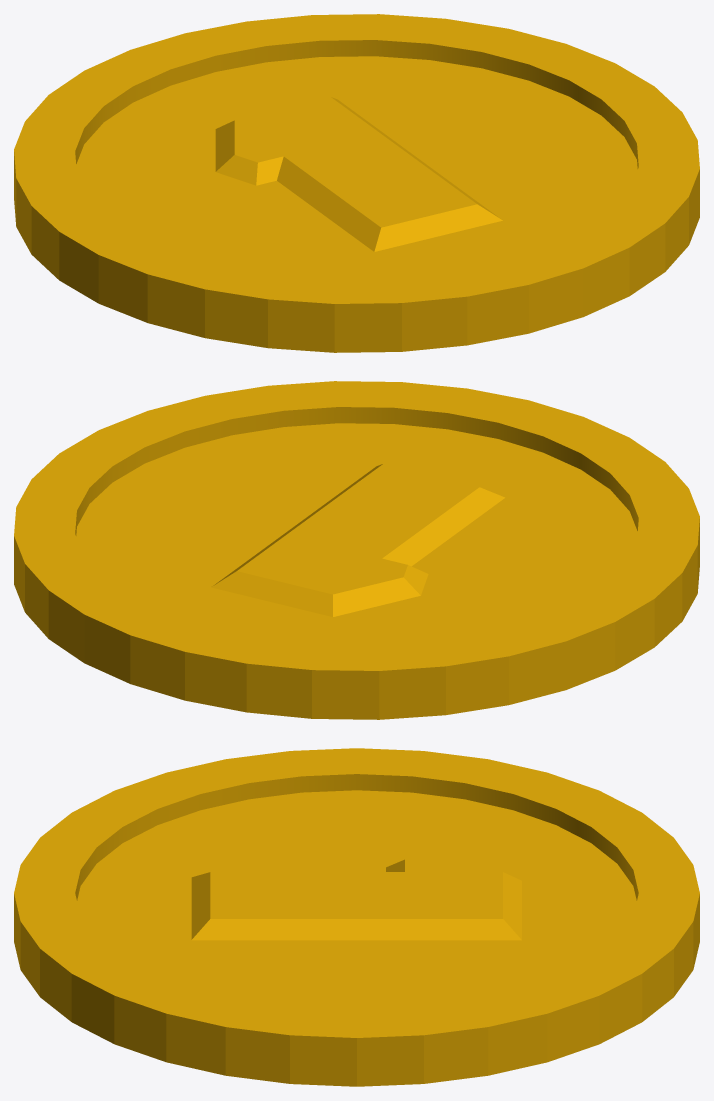
Rendered from goldCoin_export.fbx.
The picture shows the model from 3 angles, top to bottom: view 1: azimuth 30°, elevation 25°; view 2: azimuth 150°, elevation 25°; view 3: azimuth 270°, elevation 25°; orthographic projection.
Visible parts, largest first — view 1: coin; view 2: coin; view 3: coin.
Boxes of the visible parts, x1=… form: coin: x1=14, y1=14, x2=699, y2=352; coin: x1=14, y1=381, x2=699, y2=719; coin: x1=14, y1=748, x2=699, y2=1086.
Bounding box in the file's own units: 25 × 1.96 × 25.
